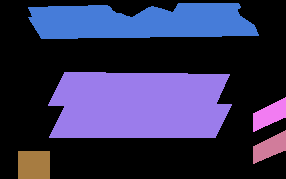parkingspot: (28, 3, 258, 38), (48, 72, 229, 107), (49, 104, 231, 137), (253, 97, 286, 131), (253, 130, 286, 163), (18, 151, 49, 179)
